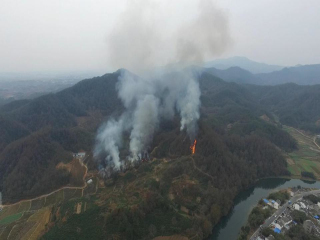smoke: (89, 5, 229, 178)
